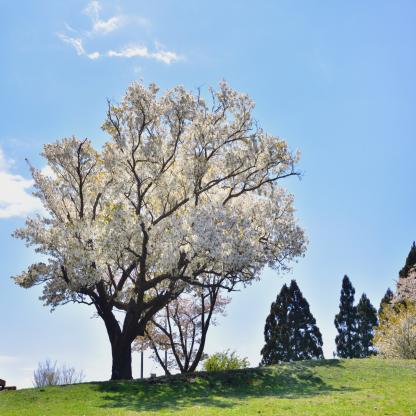OshimaSakura: (10, 76, 308, 316), (132, 284, 230, 378), (371, 260, 416, 358)
